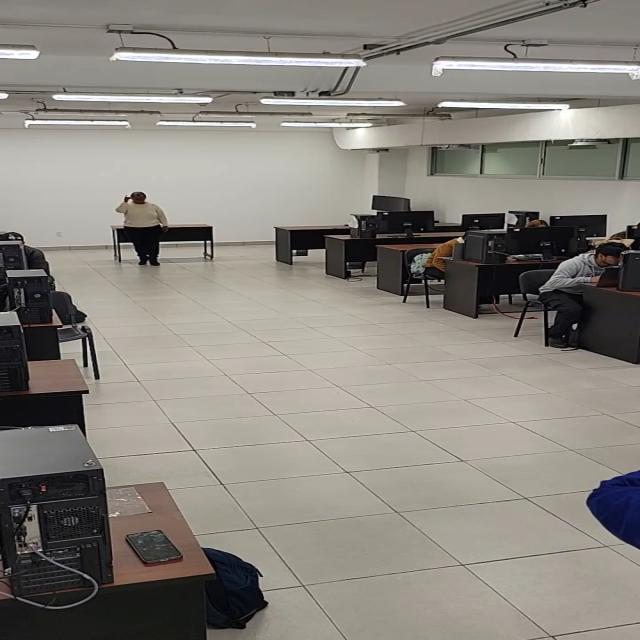Persona: (111, 189, 176, 272)
